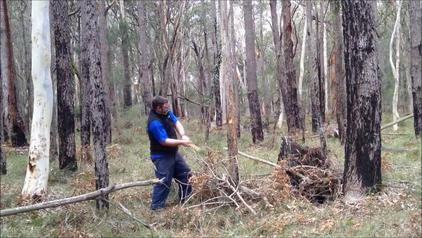sit: (142, 93, 190, 212), (18, 156, 50, 203)
walk: (142, 93, 190, 212)
